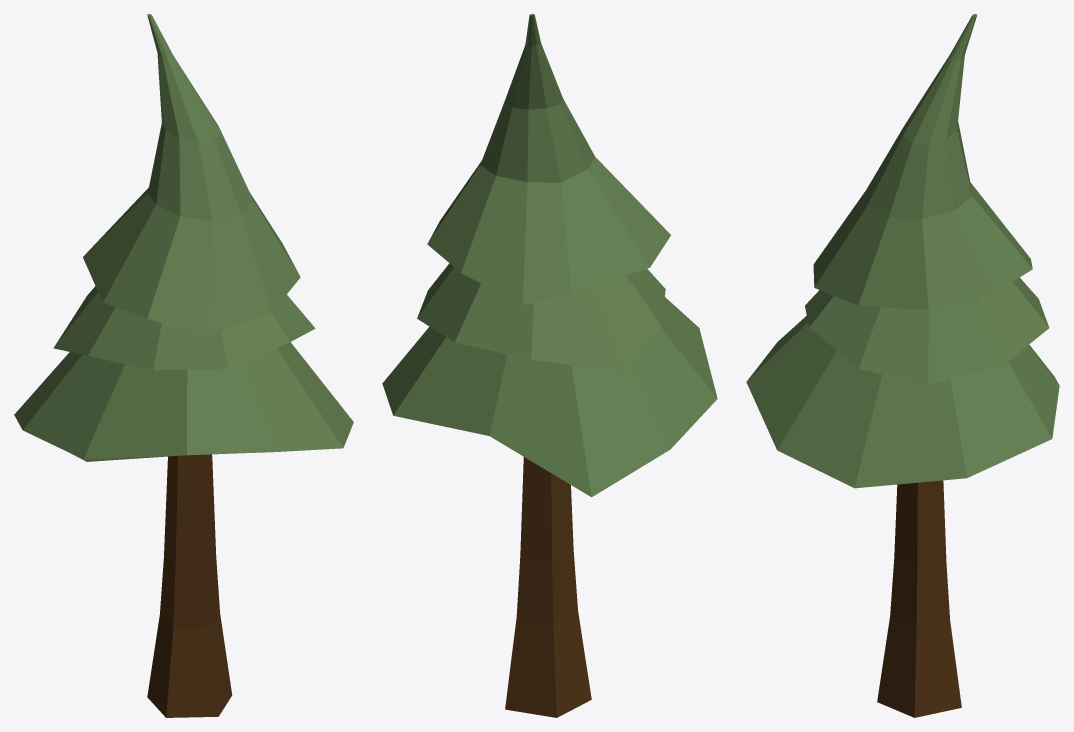
The model's file is H_A_Tree_B.fbx.
3 views of the same model, side by side, from view 1: azimuth 30°, elevation 25°; view 2: azimuth 150°, elevation 25°; view 3: azimuth 270°, elevation 25° (orthographic). The views are drawn at different scales.
Parts seen in each view (by area): view 1: H_A_Tree_B; view 2: H_A_Tree_B; view 3: H_A_Tree_B.
Part boxes in pixels (left/top/right/bottom): H_A_Tree_B: left=14, top=14, right=353, bottom=717; H_A_Tree_B: left=382, top=14, right=717, bottom=717; H_A_Tree_B: left=746, top=14, right=1059, bottom=717.
Bounding box in the file's own units: 281 × 656 × 275.
